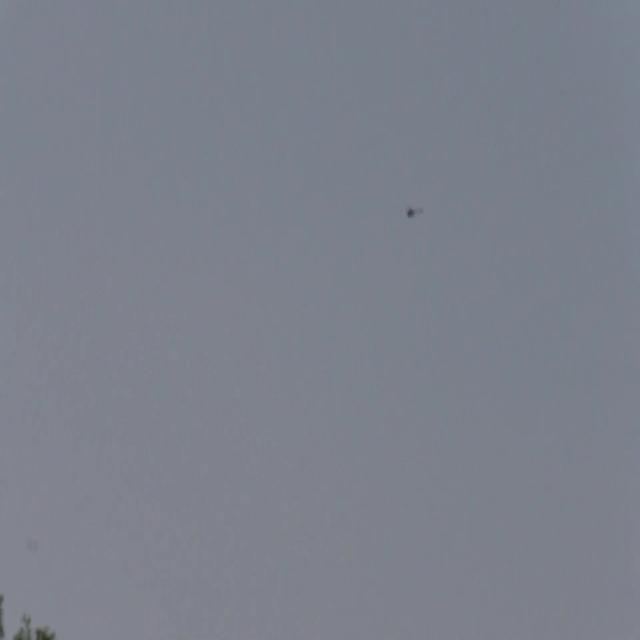CIV_HELO: (405, 204, 424, 219)
